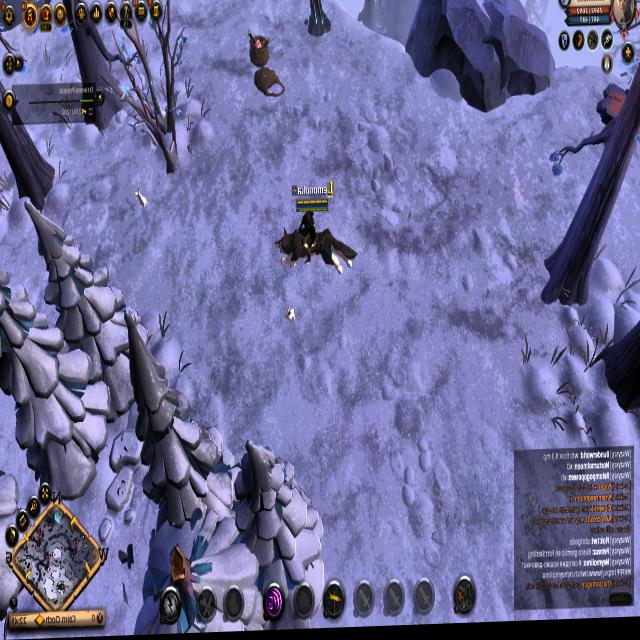ore tier 4: (305, 0, 331, 42)
